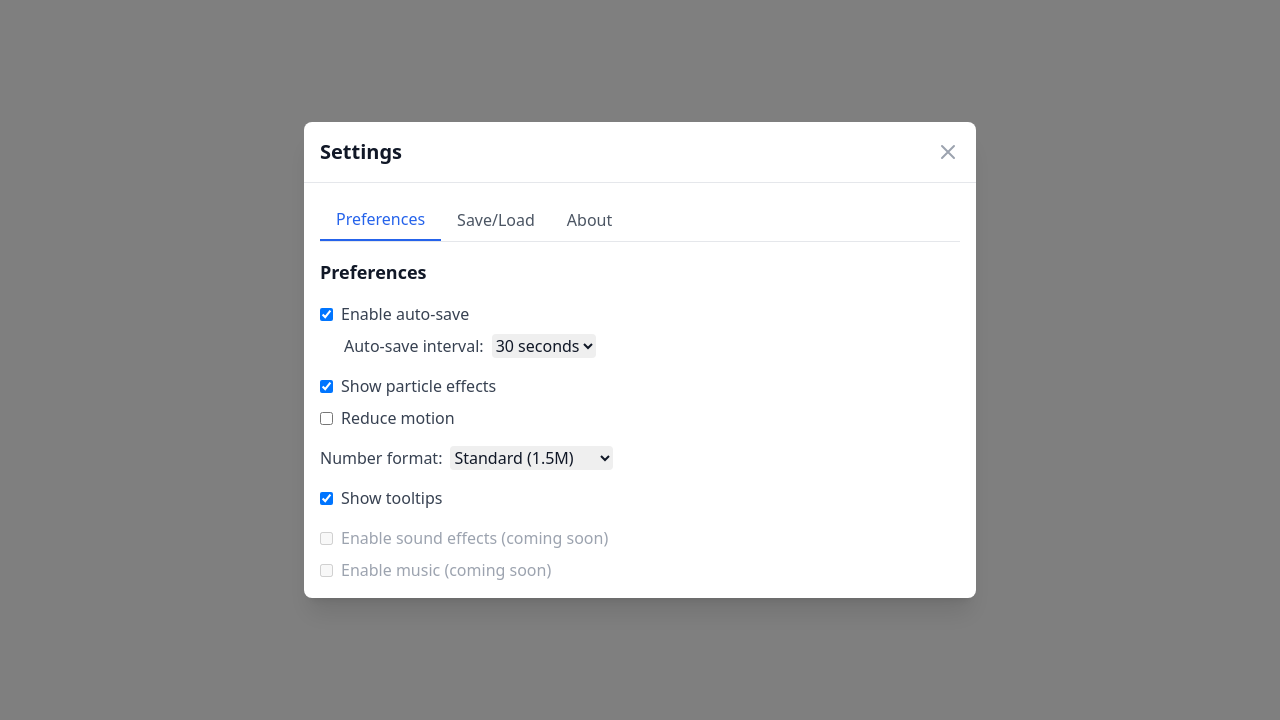
it: Settings › About Tab › should render about information
# Switch to about tab
Click the button "About": point(590, 220) [551,199,628,241]
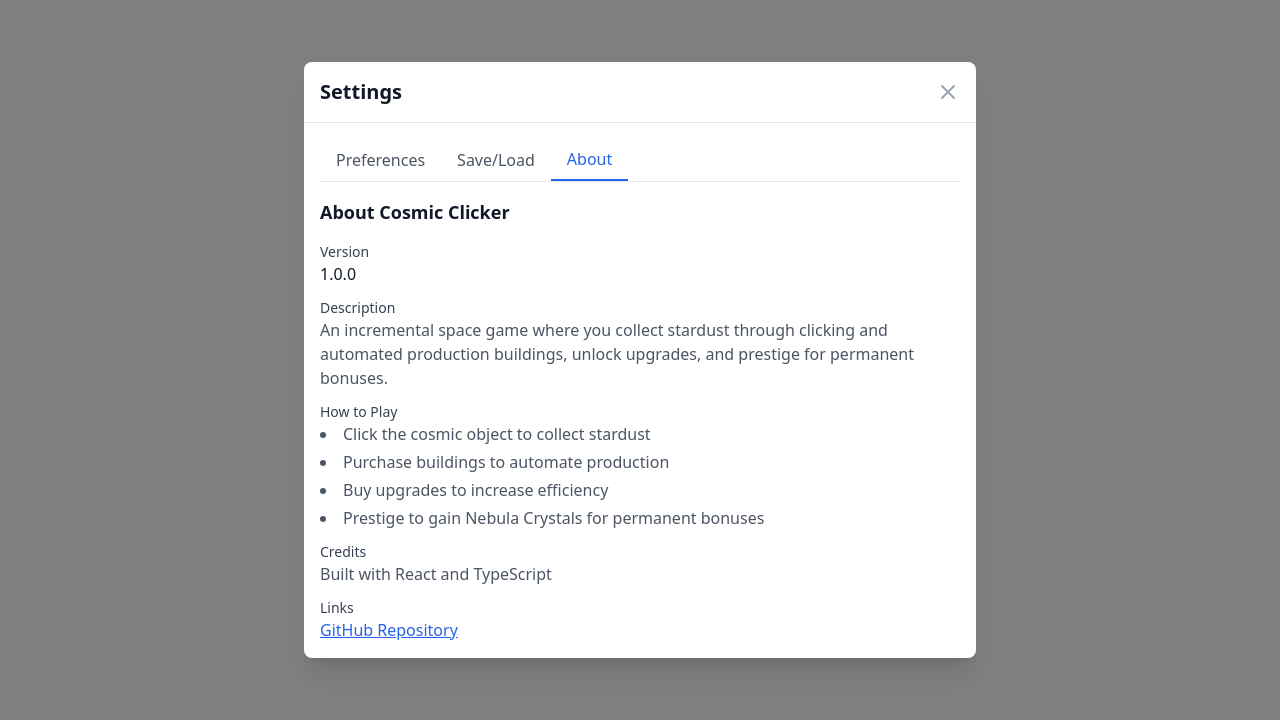
Check: the heading "About Cosmic Clicker" is shown, box [320,200,510,224]
Check: the text "1.0.0" is shown, box [320,263,356,285]
Check: the text "How to Play" is shown, box [320,402,398,421]
